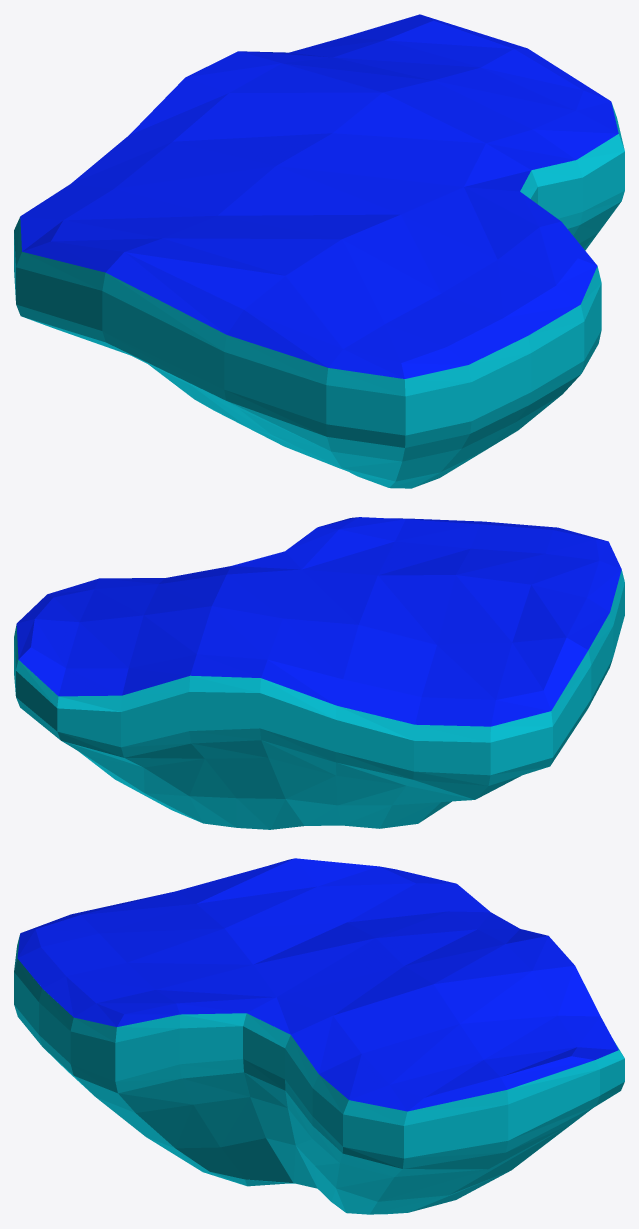
File: meelk_island.glb
3 renders of one model, top to bottom at view 1: azimuth 30°, elevation 25°; view 2: azimuth 150°, elevation 25°; view 3: azimuth 270°, elevation 25°, orthographic. The views are drawn at different scales.
Visible parts, largest first — view 1: Cube.001; view 2: Cube.001; view 3: Cube.001.
Boxes of the visible parts, <box> form: Cube.001: <box>14,14,624,488</box>; Cube.001: <box>14,517,624,829</box>; Cube.001: <box>14,858,624,1214</box>.
Bounding box in the file's own units: 3.27 × 1.46 × 3.45.
